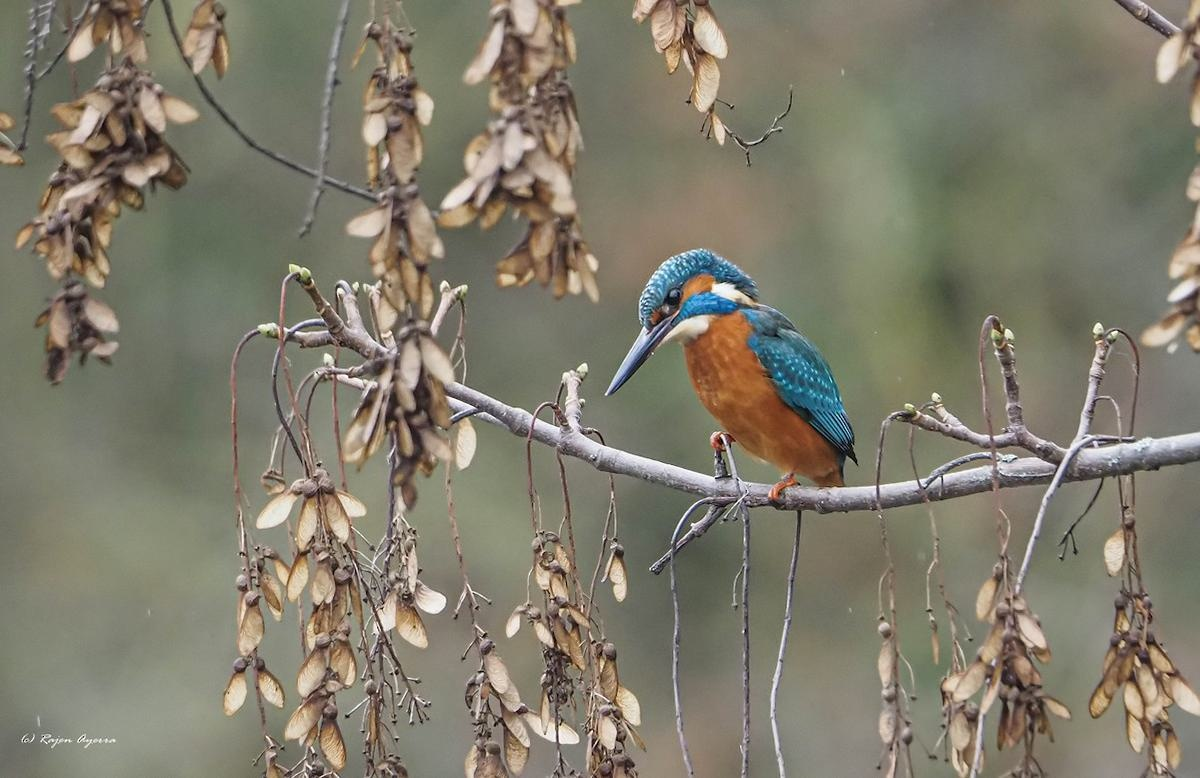kingfisher: (613, 234, 851, 493)
